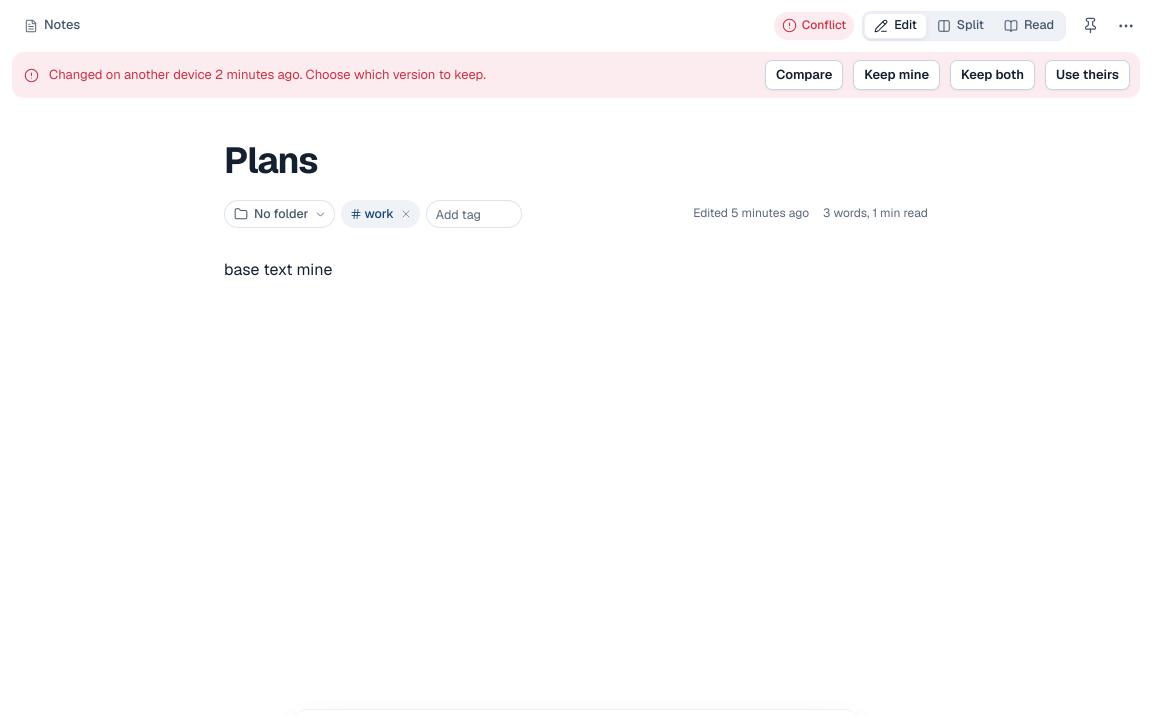
Test case: a conflict with another device › Keep both saves this device’s text as a separate note first, then shows theirs
The image size is (1152, 716).
Click the button "Keep both" at (993,75), box [950,60,1035,90]
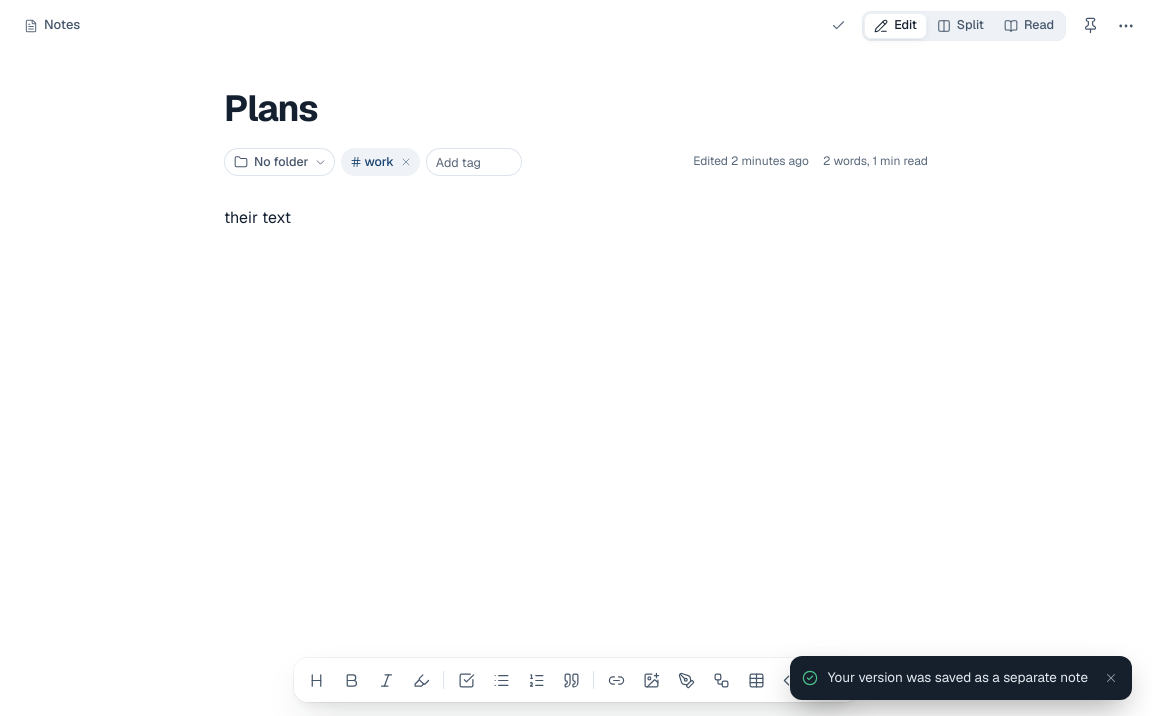
Expected: the text box labelled "their text" is shown, [224,207,291,228]
Expected: the message with class "alert-danger" is gone
